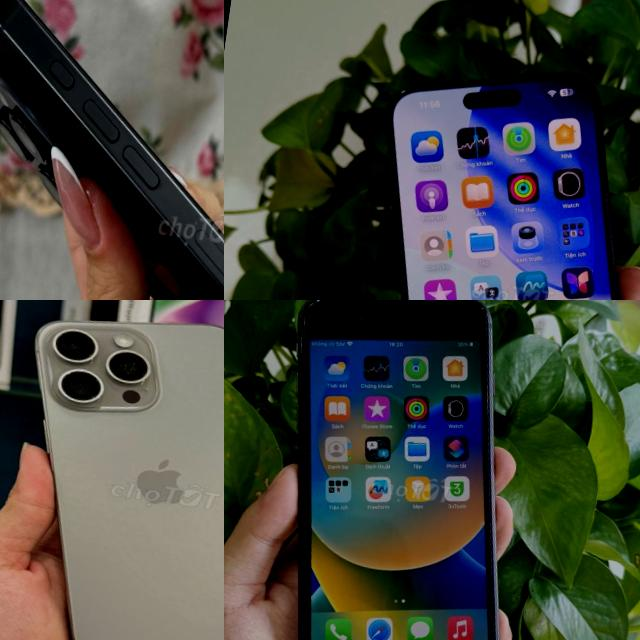gen_15: (306, 40, 640, 300), (0, 302, 224, 640)
gen_16: (0, 0, 224, 300)
gen_7_8: (241, 300, 556, 640)
scratch: (292, 311, 312, 358), (353, 310, 371, 322), (476, 303, 488, 313), (398, 87, 406, 95), (308, 300, 322, 303)
